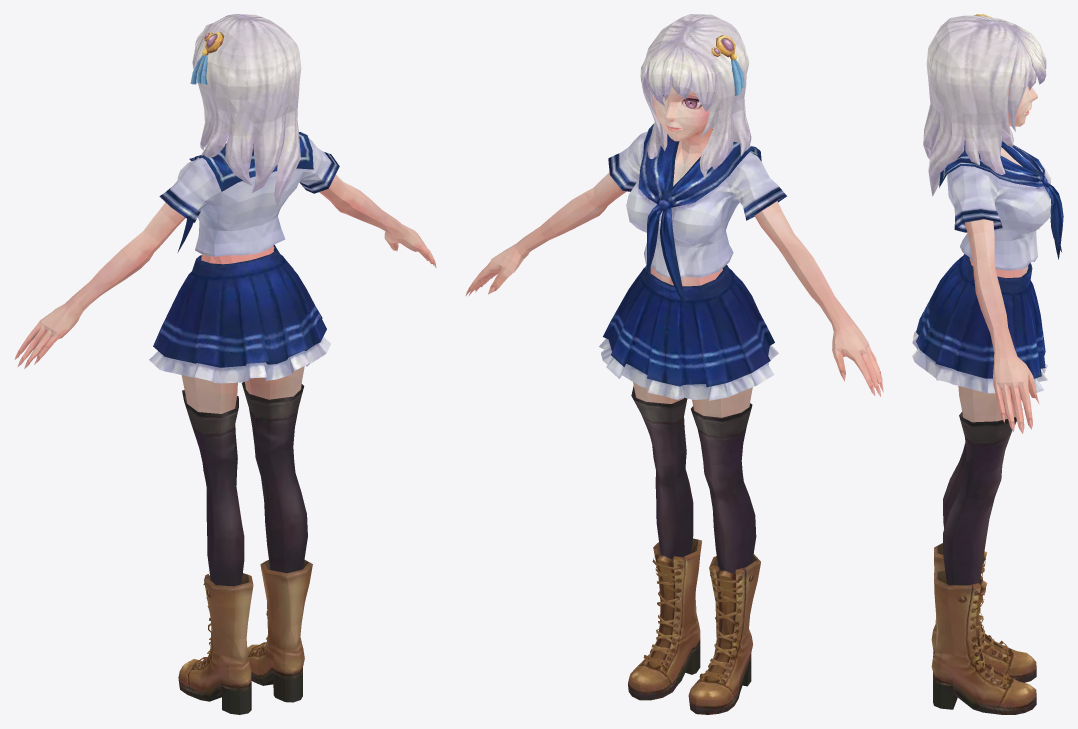
File: schoolgirl.glb
The picture shows the model from 3 angles, left to right: view 1: azimuth 30°, elevation 25°; view 2: azimuth 150°, elevation 25°; view 3: azimuth 270°, elevation 25°; orthographic projection.
Visible parts, largest first — view 1: Object_4.001, Object_6.001; view 2: Object_4.001, Object_6.001; view 3: Object_4.001, Object_6.001.
Part boxes in pixels (x1,y1,x2,y2): Object_4.001: (14,132,436,714); Object_6.001: (190,14,301,208); Object_4.001: (465,124,883,714); Object_6.001: (640,14,751,178); Object_4.001: (912,125,1063,714); Object_6.001: (923,14,1046,196).
Bounding box in the file's own units: 1.66 × 2.55 × 0.5212.
Materials: 2 (2 with a texture image).
